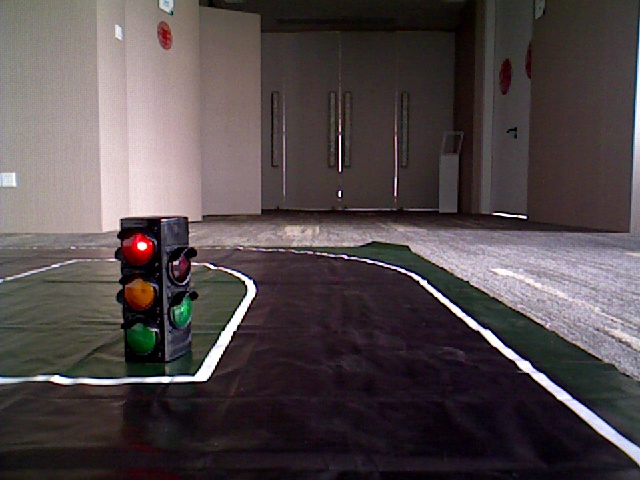red: (121, 216, 163, 373)
